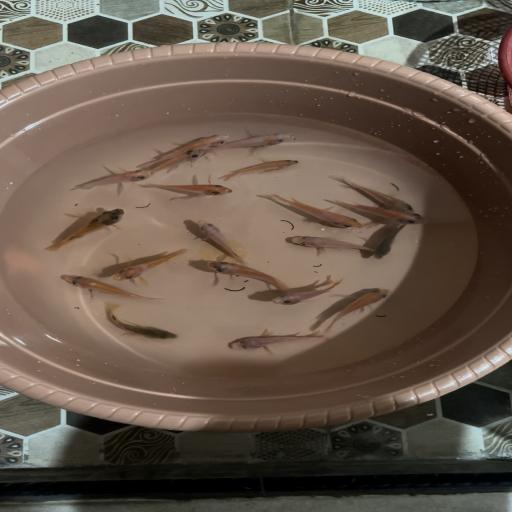nila: (262, 192, 364, 232), (41, 208, 127, 252), (93, 302, 184, 343), (326, 174, 418, 214), (58, 273, 172, 302), (322, 287, 391, 334), (203, 259, 295, 293), (221, 328, 332, 354), (190, 217, 250, 264), (113, 247, 191, 283), (326, 199, 430, 226), (142, 130, 229, 162), (218, 131, 301, 159), (68, 168, 157, 192), (271, 279, 349, 306), (284, 233, 376, 255), (220, 157, 300, 181), (140, 181, 239, 200), (370, 223, 416, 261), (149, 147, 204, 177)
